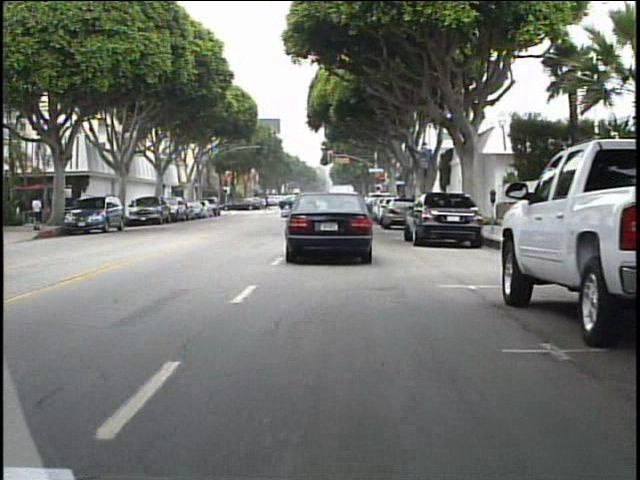person: (31, 193, 49, 234), (263, 192, 276, 216)
